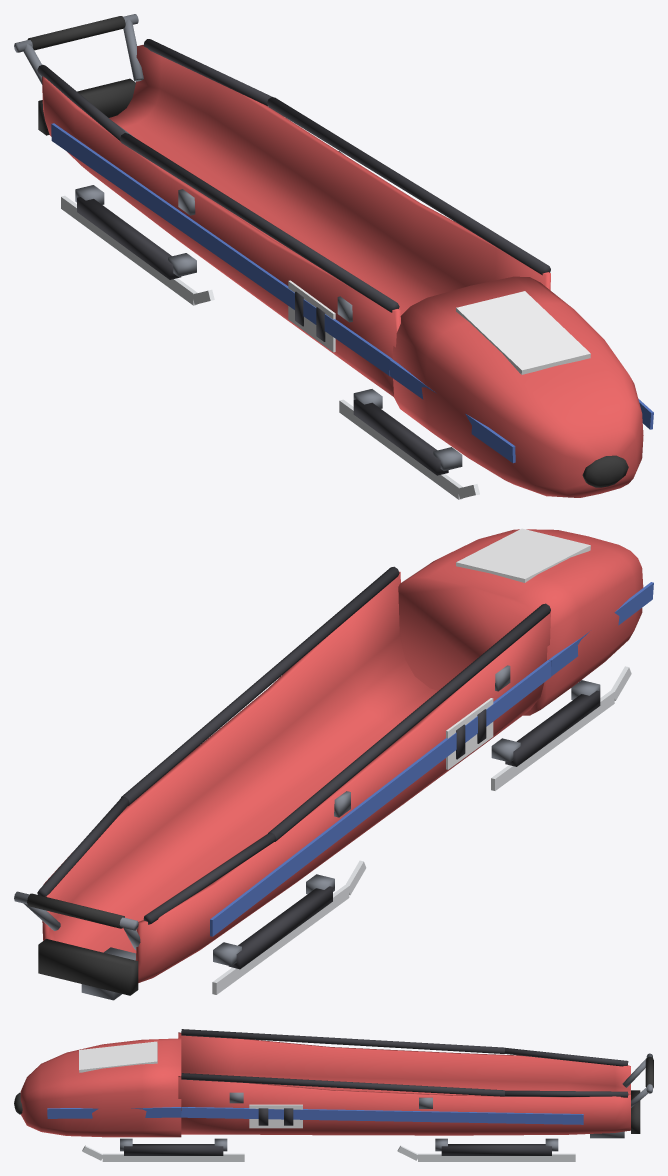
The model's file is bobsled.glb.
3 renders of one model, top to bottom at view 1: azimuth 30°, elevation 25°; view 2: azimuth 150°, elevation 25°; view 3: azimuth 270°, elevation 25°, orthographic. The views are drawn at different scales.
Parts seen in each view (by area): view 1: bobsled; view 2: bobsled; view 3: bobsled.
Part boxes in pixels (<box>): bobsled: <box>14,14,653,499</box>; bobsled: <box>14,528,653,1000</box>; bobsled: <box>14,1029,653,1161</box>.
Bounding box in the file's own units: 0.71 × 0.617 × 4.06.
